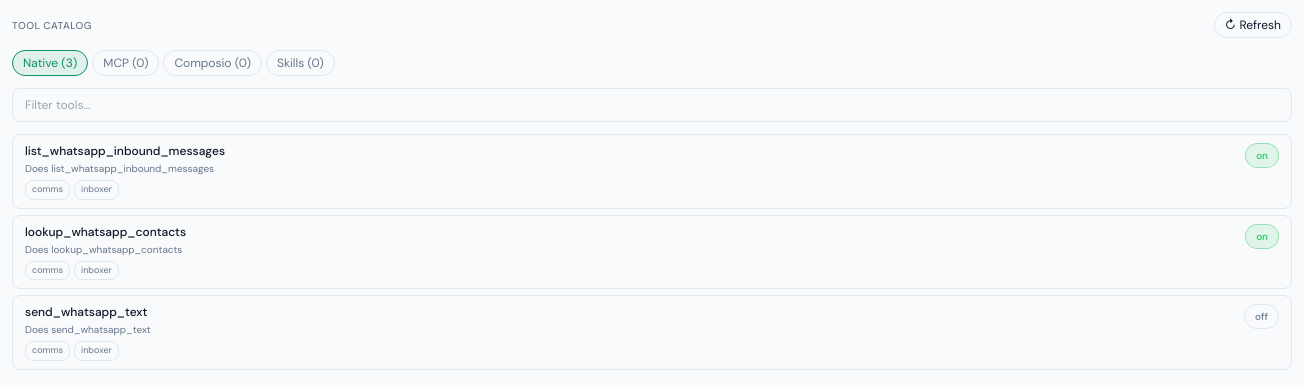
Scenario: ToolsPanel — search filter › filtering by search term shows only matching tools
Expected: the text "list_whatsapp_inbound_messages" is shown, [25,143,225,159]
Step 1. Type "lookup" into the search field with placeholder "Filter tools…" → (652, 105), box [12,88,1292,122]
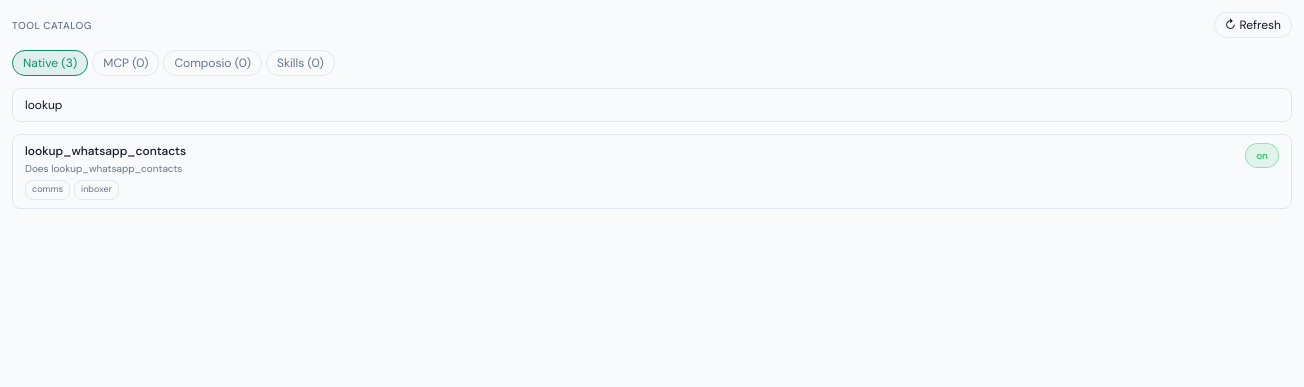
Expected: the text "lookup_whatsapp_contacts" is shown, [25,143,186,159]
Now the text "list_whatsapp_inbound_messages" is gone
